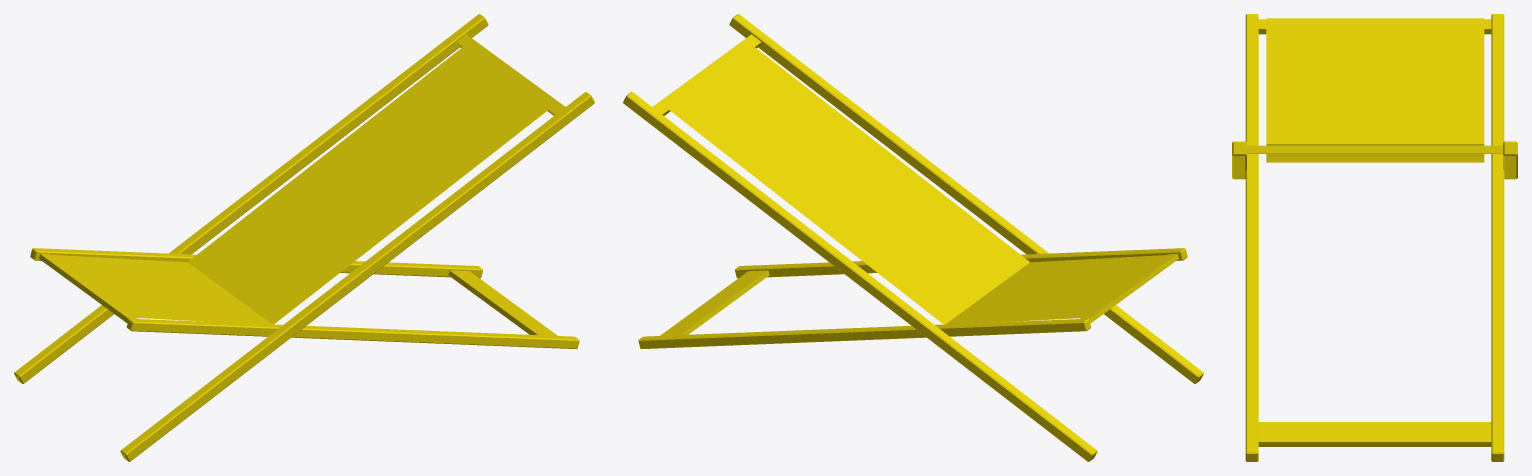
The model's file is Beach_Seat.fbx.
3 renders of one model, left to right at view 1: azimuth 30°, elevation 25°; view 2: azimuth 150°, elevation 25°; view 3: azimuth 270°, elevation 25°, orthographic. The views are drawn at different scales.
Visible parts, largest first — view 1: Beach_Seat; view 2: Beach_Seat; view 3: Beach_Seat.
Boxes of the visible parts, x1,y1,x2,y2 form: Beach_Seat: (14, 14, 594, 461); Beach_Seat: (623, 14, 1203, 461); Beach_Seat: (1232, 14, 1517, 461).
Bounding box in the file's own units: 985 × 512 × 407.
